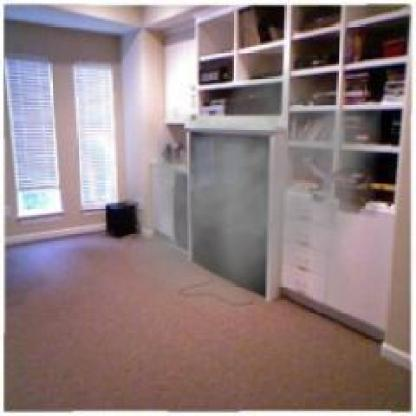Smoke: (130, 56, 381, 308)
